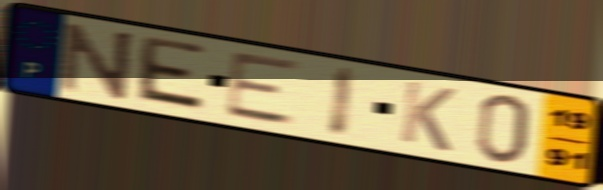0: (472, 92, 535, 166)
E: (221, 50, 305, 129), (130, 33, 209, 116)
I: (326, 63, 359, 142)
K: (397, 77, 460, 155)
N: (58, 20, 138, 103)
